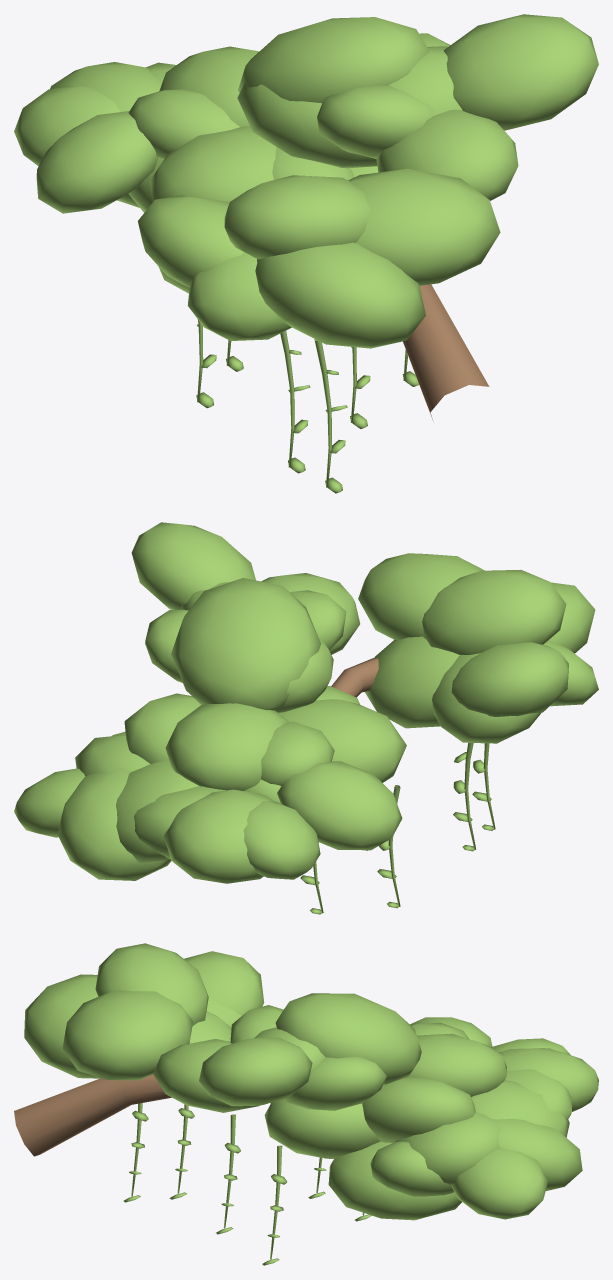
Rendered from canopy_bough_b.glb.
The picture shows the model from 3 angles, top to bottom: view 1: azimuth 30°, elevation 25°; view 2: azimuth 150°, elevation 25°; view 3: azimuth 270°, elevation 25°; orthographic projection. The views are drawn at different scales.
Parts seen in each view (by area): view 1: SM_Forest_CanopyBough_B; view 2: SM_Forest_CanopyBough_B; view 3: SM_Forest_CanopyBough_B.
Boxes of the visible parts, x1,y1,x2,y2 form: SM_Forest_CanopyBough_B: (14,14,598,493); SM_Forest_CanopyBough_B: (14,522,598,914); SM_Forest_CanopyBough_B: (14,943,598,1265).
Size of the model in its own units: 6.48 by 4.48 by 9.11.
